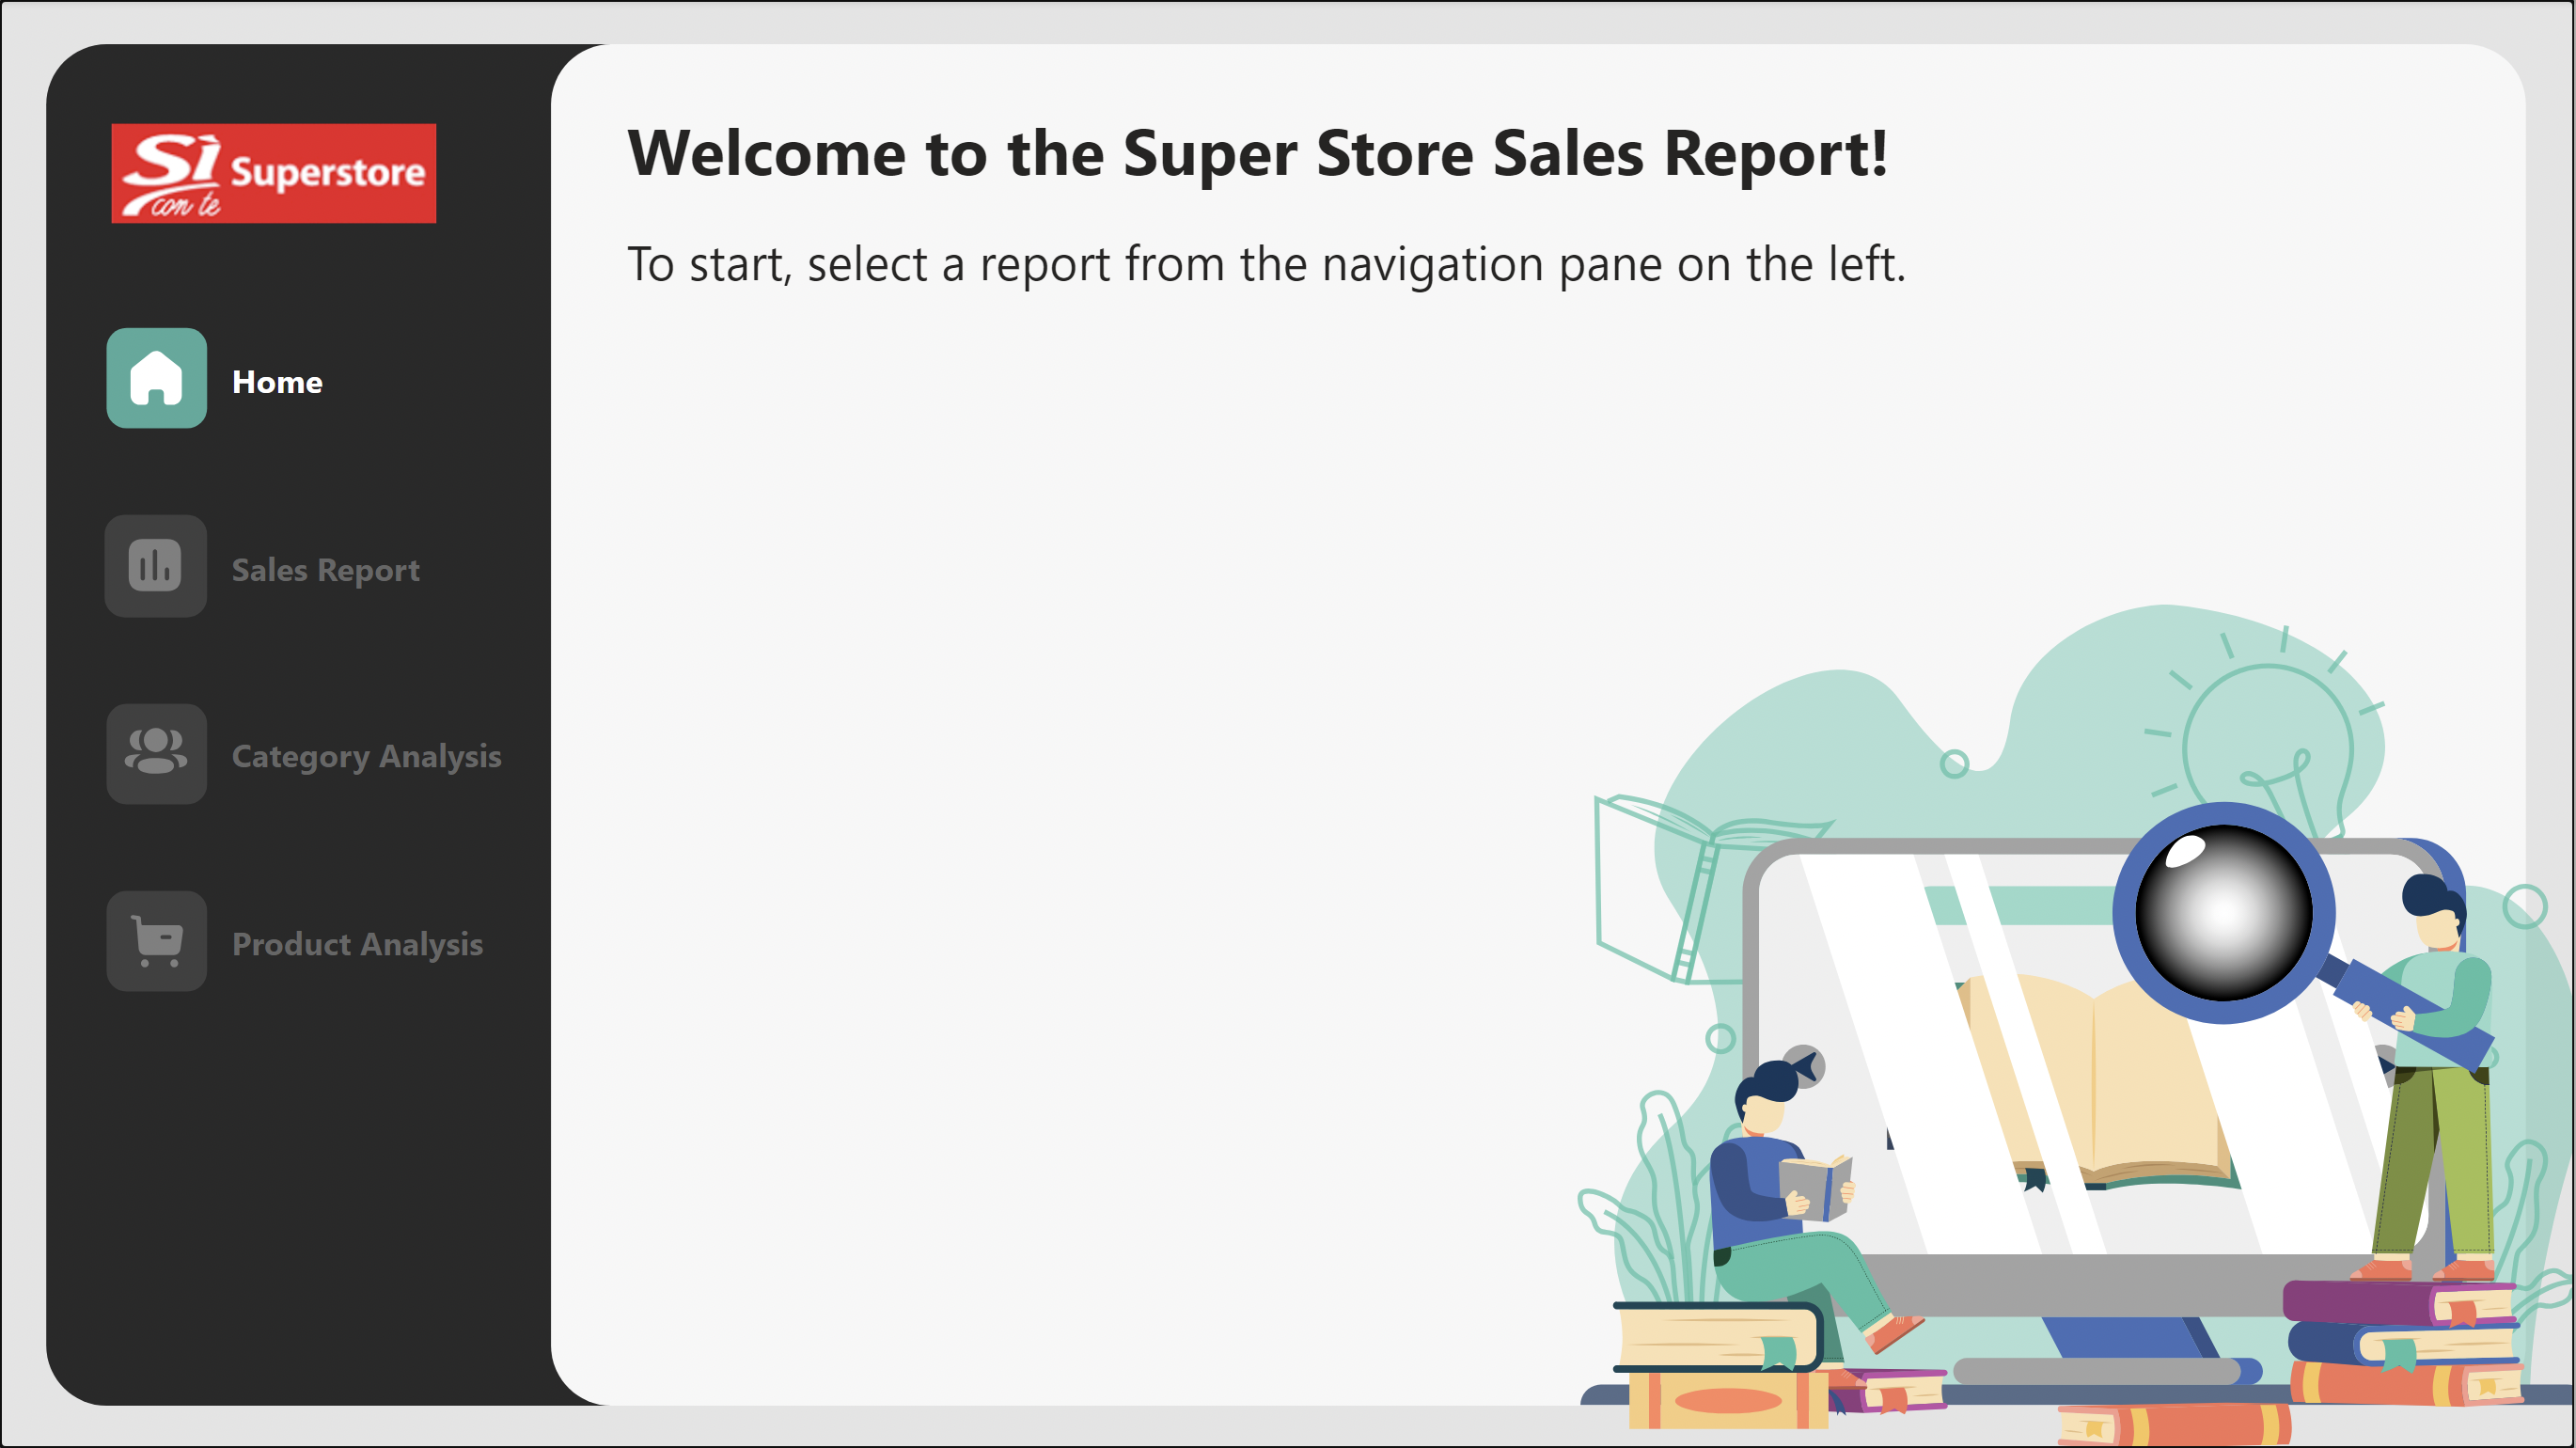

This screenshot's page, from the dashboard's own definition file:
{"tool":"powerbi","page":{"name":"Home Page","canvas":[1280,720],"ordinal":0},"visuals":[{"type":"actionButton","box":[111.5,168,99.9,40.5],"z":0},{"type":"actionButton","box":[111.5,262.1,149.1,40.5],"z":1000},{"type":"actionButton","box":[111.5,354.8,149.1,40.5],"z":2000},{"type":"actionButton","box":[111.5,447.4,149.1,40.5],"z":3000},{"type":"textbox","box":[307,47.8,900.6,176.7],"z":4000},{"type":"image","box":[50.5,0,171.3,172.6],"z":5000}]}

Visuals, with their boxes in screenshot pixels (x1, y1, x2, y2), scaled from the page's 1280x720 canvas onto the 2576x1448 screenshot:
actionButton: [left=225, top=338, right=426, bottom=419]
actionButton: [left=225, top=527, right=525, bottom=608]
actionButton: [left=225, top=714, right=525, bottom=795]
actionButton: [left=225, top=900, right=525, bottom=982]
textbox: [left=618, top=96, right=2430, bottom=451]
image: [left=102, top=0, right=447, bottom=347]
